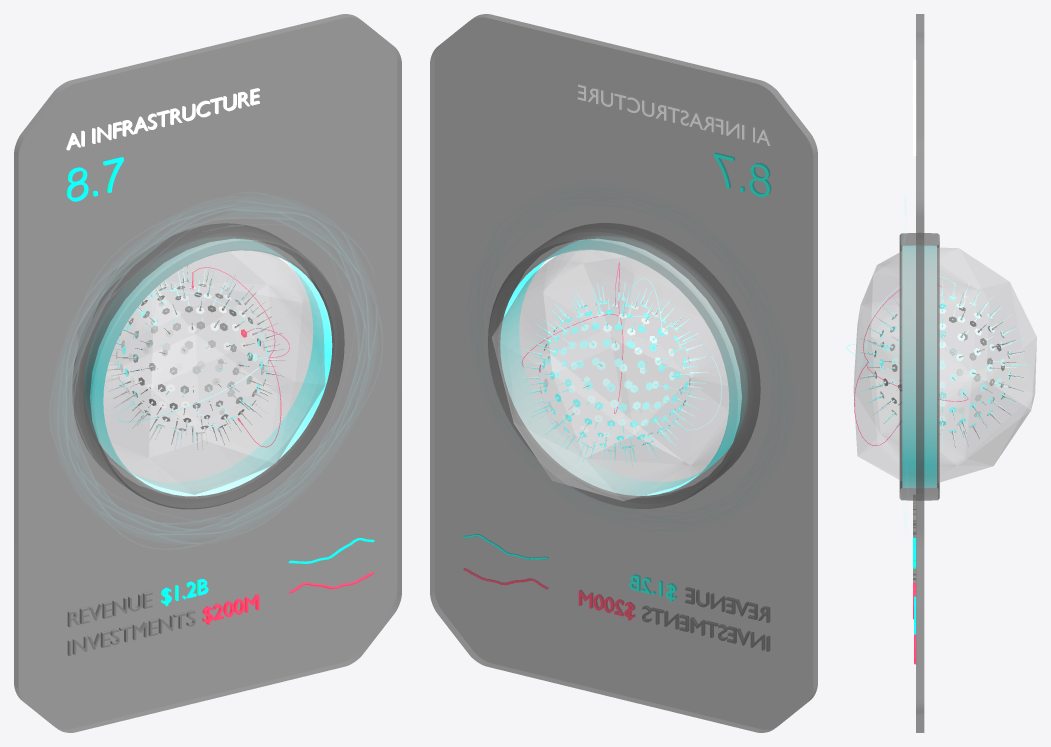
3 views of the same model, side by side, from view 1: azimuth 30°, elevation 25°; view 2: azimuth 150°, elevation 25°; view 3: azimuth 270°, elevation 25° (orthographic). The views are drawn at different scales.
Parts seen in each view (by area): view 1: baseGreen, Glass, Corner, neon-corner, baseCorner, neon-sphereBase2, spike.1379, Text, Text.004, neon-sphere.001, Text.002, neon-rimGreen (+2 smaller); view 2: baseGreen, Glass, Corner, neon-corner, baseCorner, neon-sphere.001, Text, Text.004, Text.002, neon-text1, neon-text3, neon-sphereBase2 (+1 smaller); view 3: Glass, Corner, neon-corner, baseCorner, neon-sphere.001, neon-sphereBase2, spike.1379, Text.
Part boxes in pixels (x1=…): baseGreen: x1=14, y1=14, x2=401, y2=732; Glass: x1=103, y1=250, x2=324, y2=494; Corner: x1=73, y1=224, x2=344, y2=509; neon-corner: x1=85, y1=237, x2=332, y2=496; baseCorner: x1=14, y1=14, x2=401, y2=732; neon-sphereBase2: x1=116, y1=281, x2=268, y2=433; spike.1379: x1=105, y1=265, x2=285, y2=449; Text: x1=66, y1=88, x2=259, y2=150; Text.004: x1=67, y1=610, x2=195, y2=656; neon-sphere.001: x1=108, y1=266, x2=273, y2=448; Text.002: x1=67, y1=591, x2=152, y2=627; neon-rimGreen: x1=65, y1=204, x2=369, y2=541; baseGreen: x1=430, y1=14, x2=817, y2=732; Glass: x1=492, y1=250, x2=728, y2=500; Corner: x1=488, y1=223, x2=759, y2=508; neon-corner: x1=500, y1=236, x2=747, y2=495; baseCorner: x1=430, y1=14, x2=817, y2=732; neon-sphere.001: x1=521, y1=282, x2=708, y2=467; Text: x1=577, y1=84, x2=771, y2=145; Text.004: x1=642, y1=606, x2=769, y2=651; Text.002: x1=685, y1=587, x2=769, y2=622; neon-text1: x1=714, y1=153, x2=770, y2=197; neon-text3: x1=578, y1=590, x2=634, y2=620; neon-sphereBase2: x1=539, y1=299, x2=690, y2=451; Glass: x1=854, y1=248, x2=1036, y2=481; Corner: x1=899, y1=233, x2=939, y2=500; neon-corner: x1=902, y1=245, x2=936, y2=488; baseCorner: x1=916, y1=14, x2=924, y2=732; neon-sphere.001: x1=856, y1=282, x2=1027, y2=450; neon-sphereBase2: x1=874, y1=295, x2=1010, y2=434; spike.1379: x1=860, y1=279, x2=1024, y2=447; Text: x1=913, y1=59, x2=916, y2=155.
Size of the model in its own units: 1.47 by 2.38 by 0.6934.
Materials: 10 (1 with a texture image).
